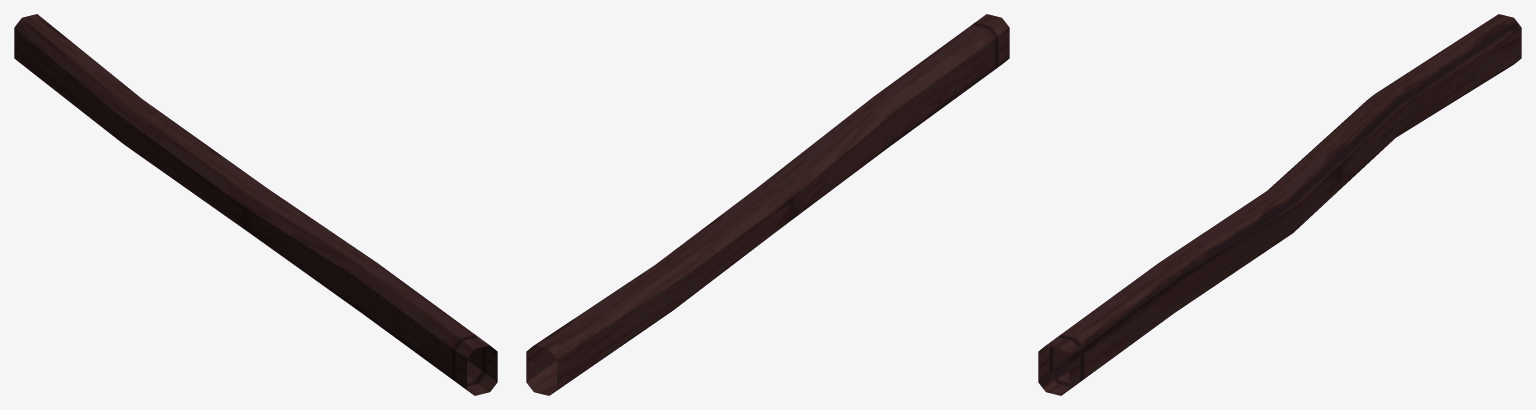
The model's file is MOD_PierTrim_Block.fbx.
3 renders of one model, left to right at view 1: azimuth 30°, elevation 25°; view 2: azimuth 150°, elevation 25°; view 3: azimuth 330°, elevation 25°, orthographic.
Parts seen in each view (by area): view 1: MOD_PierTrim_Block; view 2: MOD_PierTrim_Block; view 3: MOD_PierTrim_Block.
Part boxes in pixels (x1,y1,x2,y2): MOD_PierTrim_Block: (14, 14, 497, 395); MOD_PierTrim_Block: (526, 14, 1009, 395); MOD_PierTrim_Block: (1038, 14, 1521, 395).
Bounding box in the file's own units: 23.11 × 23.57 × 400.
1 material, 1 textured.
